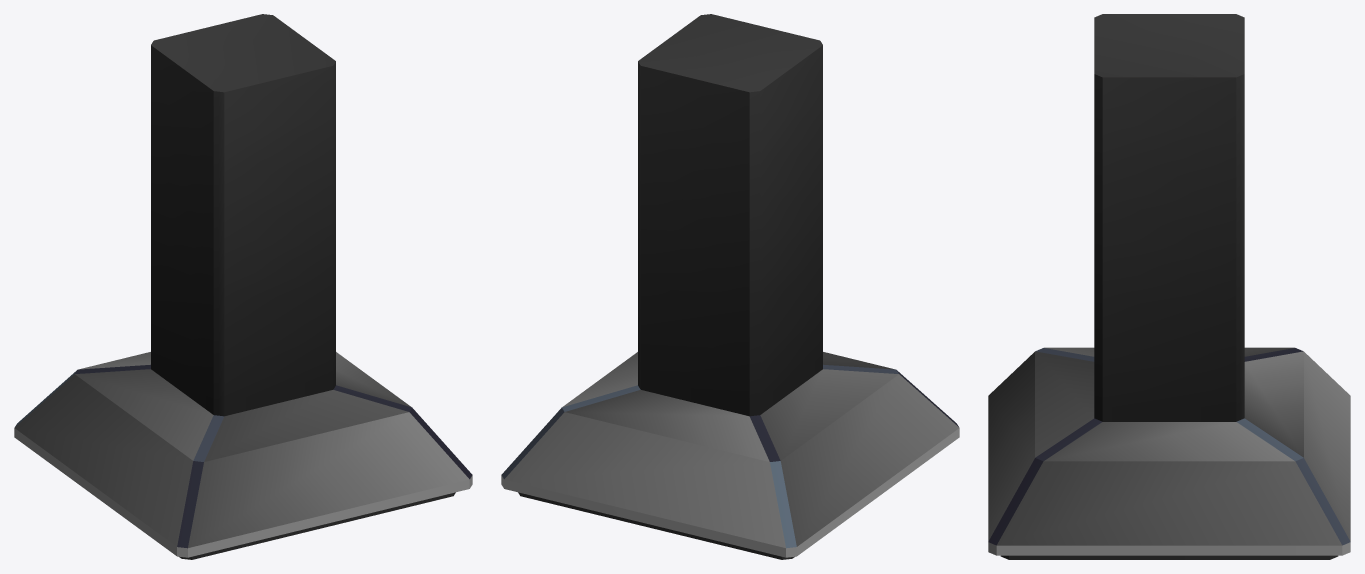
File: press_machine.fbx
The picture shows the model from 3 angles, left to right: view 1: azimuth 30°, elevation 25°; view 2: azimuth 150°, elevation 25°; view 3: azimuth 270°, elevation 25°; orthographic projection. The views are drawn at different scales.
Parts seen in each view (by area): view 1: Cube; view 2: Cube; view 3: Cube.
Part boxes in pixels (left/top/right/bottom): Cube: left=14, top=14, right=472, bottom=559; Cube: left=501, top=14, right=959, bottom=559; Cube: left=988, top=14, right=1350, bottom=559.
Bounding box in the file's own units: 2.15 × 2.15 × 2.9.
Materials: 1 (1 with a texture image).
